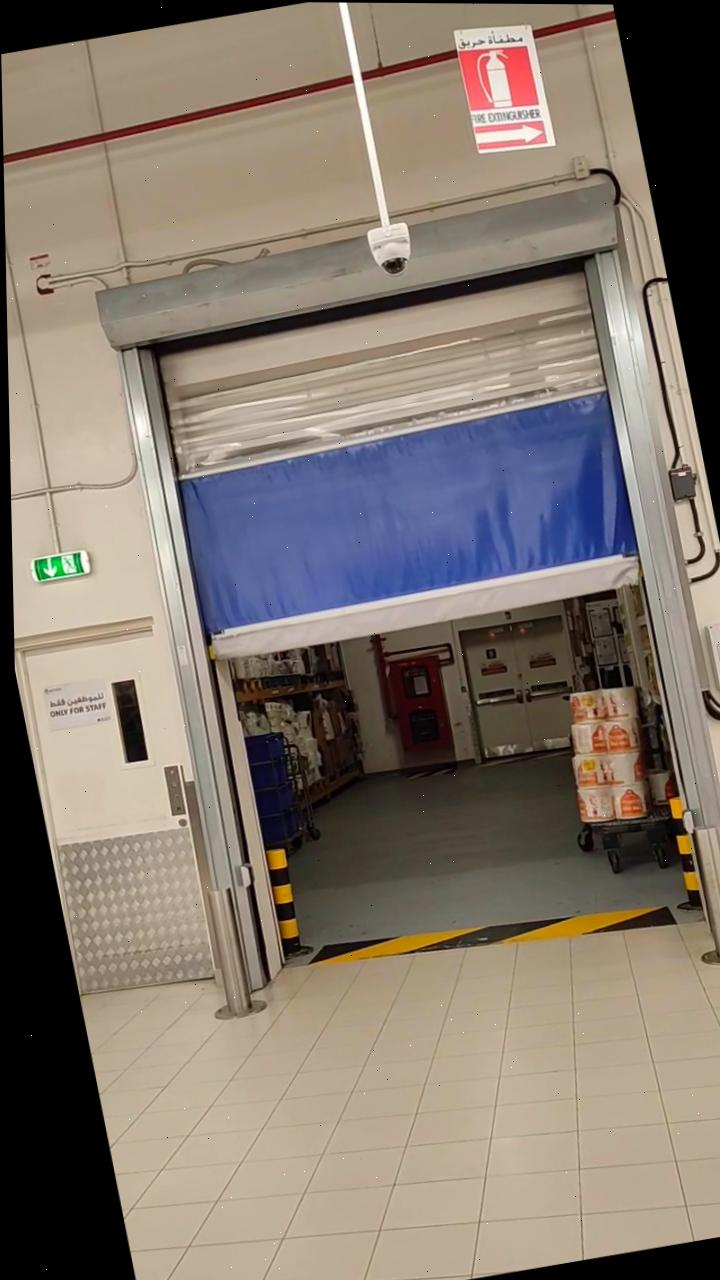Strip: (306, 872, 681, 983)
